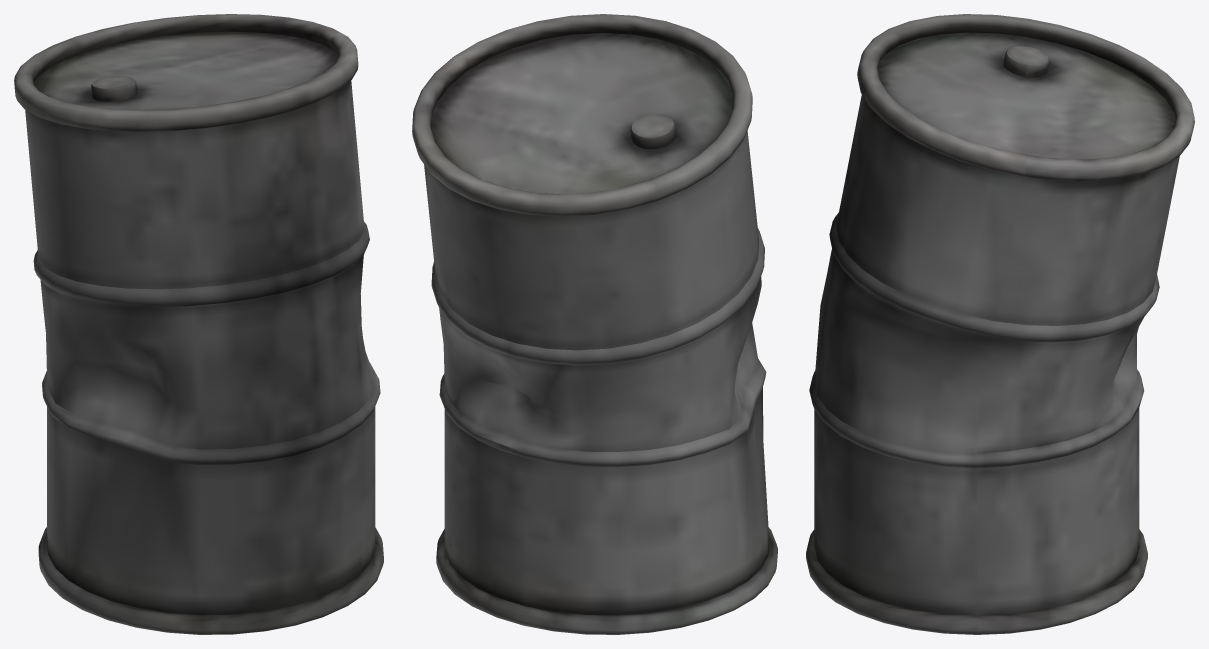
The model's file is hazard-drum-dented--3.gltf.
3 views of the same model, side by side, from view 1: azimuth 30°, elevation 25°; view 2: azimuth 150°, elevation 25°; view 3: azimuth 270°, elevation 25° (orthographic).
Visible parts, largest first — view 1: Cylinder.062; view 2: Cylinder.062; view 3: Cylinder.062.
Part boxes in pixels (x1,y1,x2,y2): Cylinder.062: [14, 14, 383, 634]; Cylinder.062: [412, 14, 777, 634]; Cylinder.062: [806, 14, 1194, 634].
Bounding box in the file's own units: 0.5251 × 0.85 × 0.5974.
Materials: 1 (1 with a texture image).
